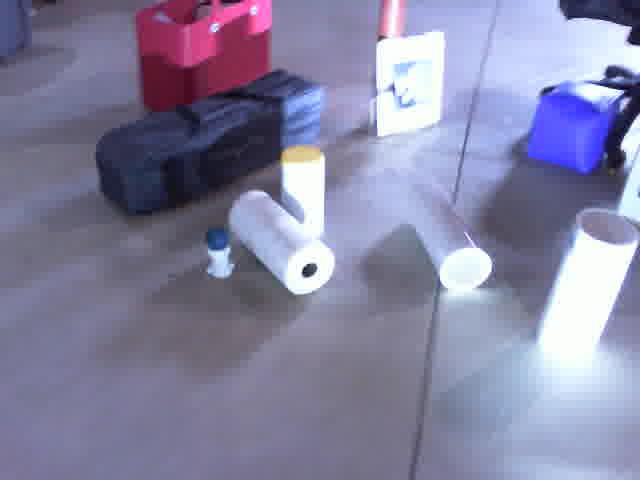coral: (537, 206, 640, 363), (223, 191, 337, 296), (398, 178, 493, 296)
